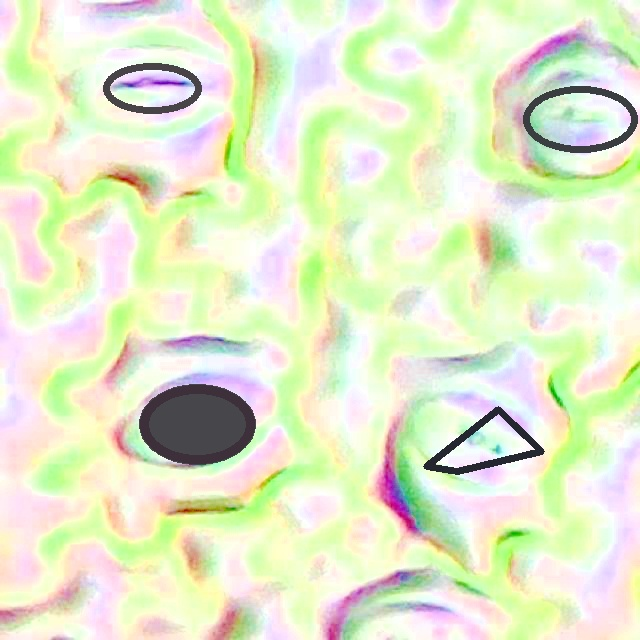close: (139, 384, 255, 464)
open: (423, 406, 544, 474), (522, 85, 638, 153), (103, 62, 202, 114)
